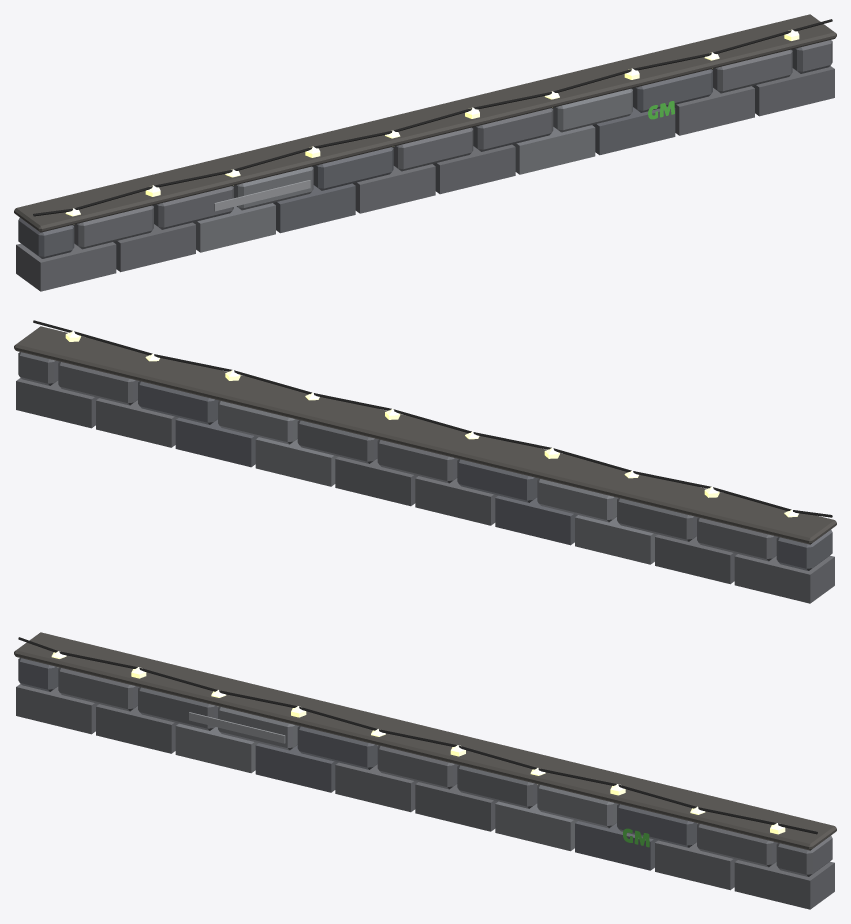
Rendered from edge_side.glb.
3 renders of one model, top to bottom at view 1: azimuth 30°, elevation 25°; view 2: azimuth 150°, elevation 25°; view 3: azimuth 330°, elevation 25°, orthographic.
Parts seen in each view (by area): view 1: body, fx_glow_bulbs; view 2: body, fx_glow_bulbs; view 3: body, fx_glow_bulbs.
Boxes of the visible parts, x1,y1,x2,y2 form: body: (14,14,836,291); fx_glow_bulbs: (65,29,799,216); body: (14,320,836,603); fx_glow_bulbs: (65,330,798,517); body: (14,632,836,909); fx_glow_bulbs: (51,651,785,834).
Size of the model in its own units: 7.5 by 0.672 by 0.44.
